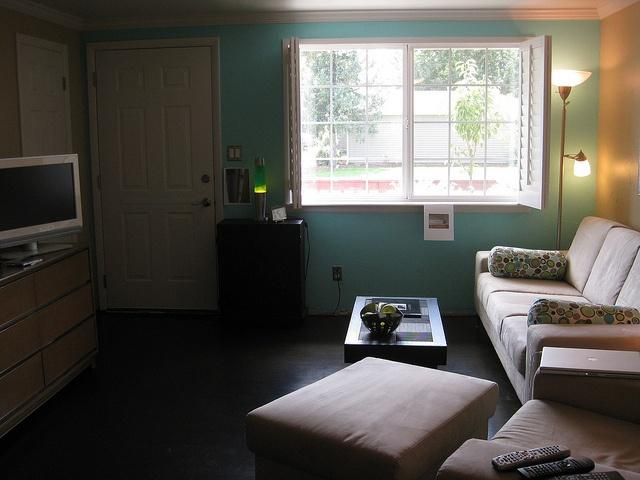AIO PC-Monitor-TV: (0, 151, 85, 252)
Meja: (342, 295, 447, 368)
